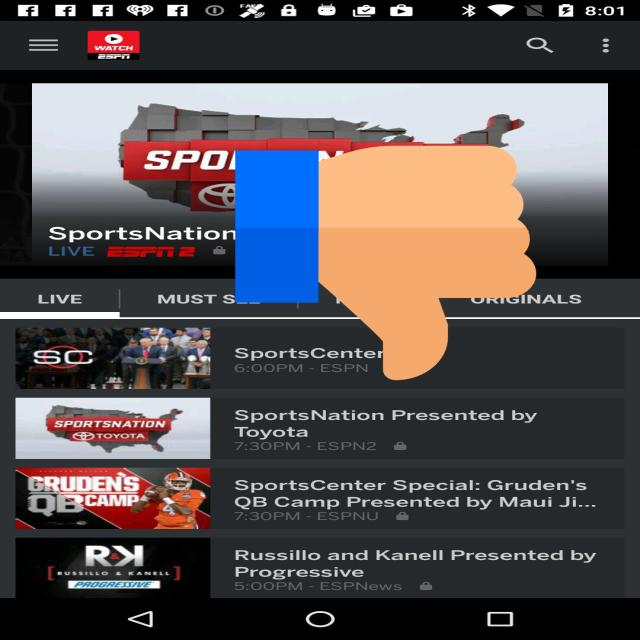obstruction: (236, 140, 536, 386)
